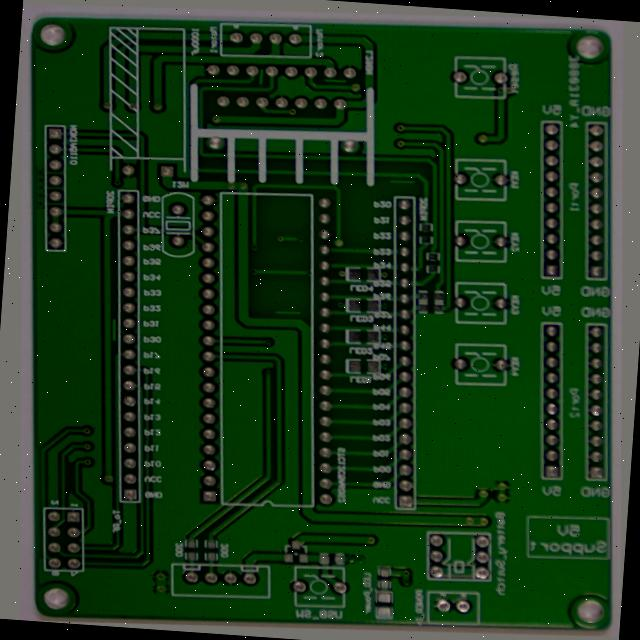spurious_copper: (88, 306, 110, 335), (267, 302, 302, 318), (336, 64, 369, 80), (397, 173, 433, 187), (262, 54, 280, 77)
